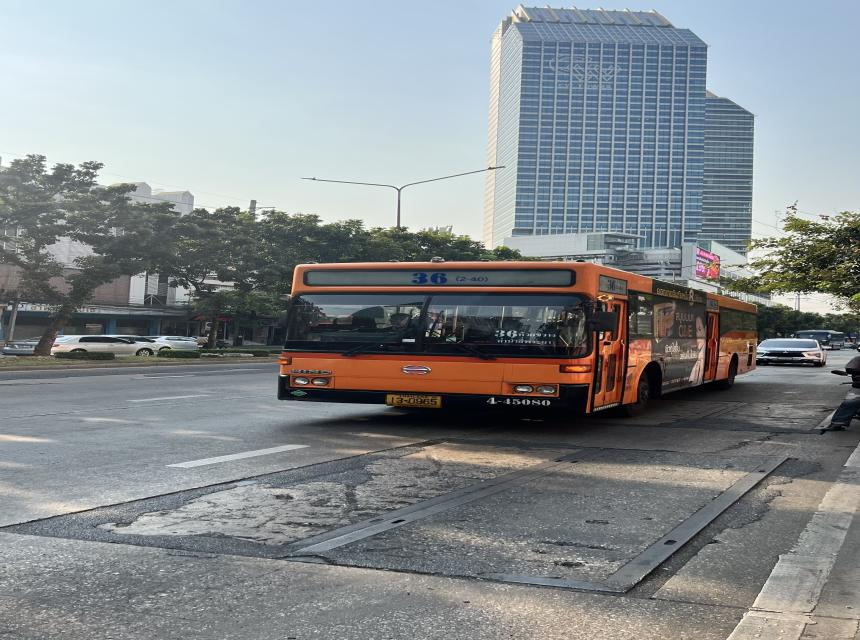BMTA-bus: (276, 259, 760, 418)
Bus Line Number: (397, 271, 498, 288)
Bus Side Number: (480, 396, 562, 408)
Destination Sign: (490, 326, 561, 346)
